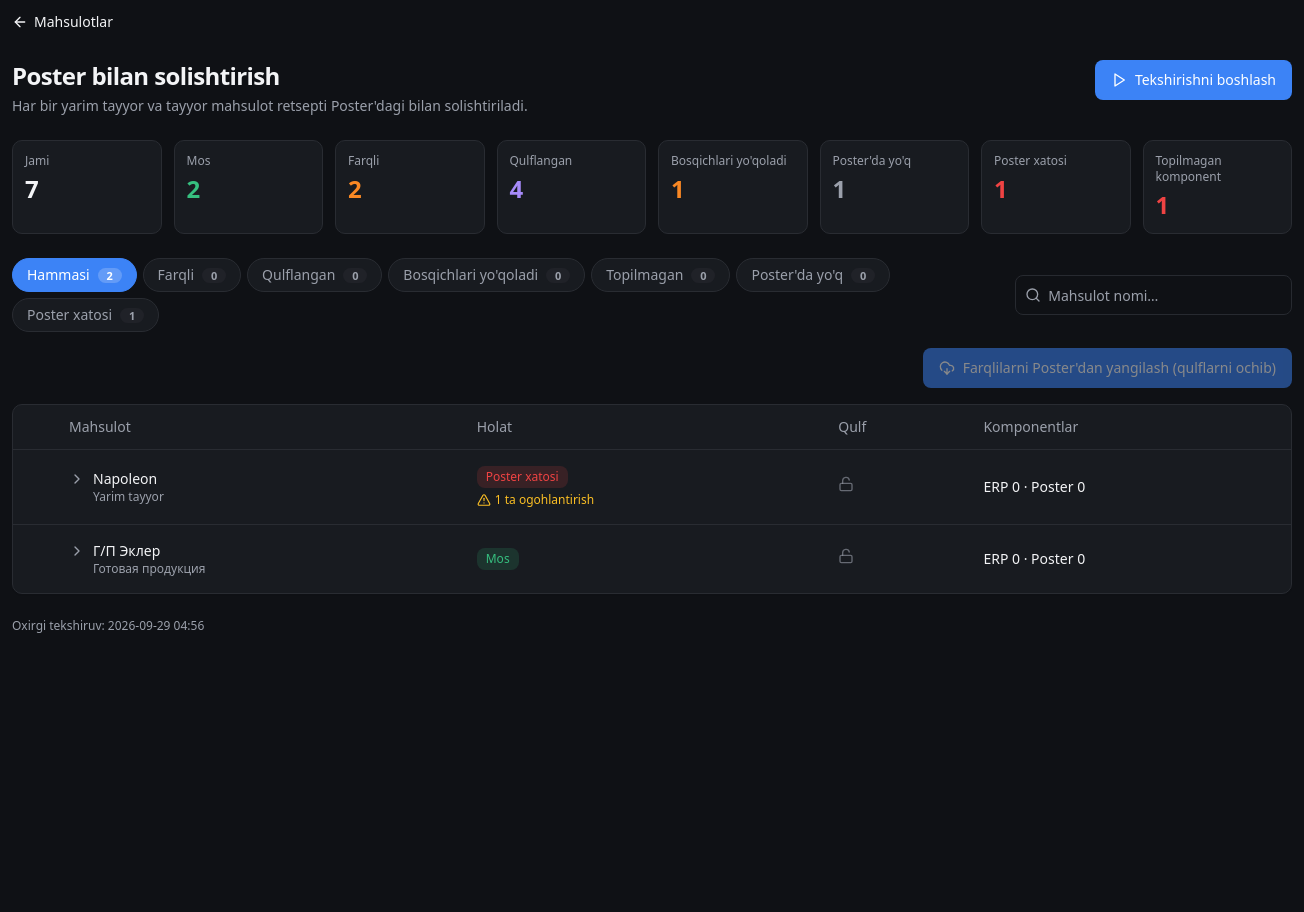
Test: RecipeAuditPage — report › labels Poster errors, Г/П (gp) products and row warnings
expect the text "Napoleon" is shown: met, box [93,468,157,488]
expect the text "Poster xatosi" below "Holat" is shown: met, box [486,468,559,484]
Click the button "Napoleon Yarim tayyor": (116, 486) [69,468,164,504]
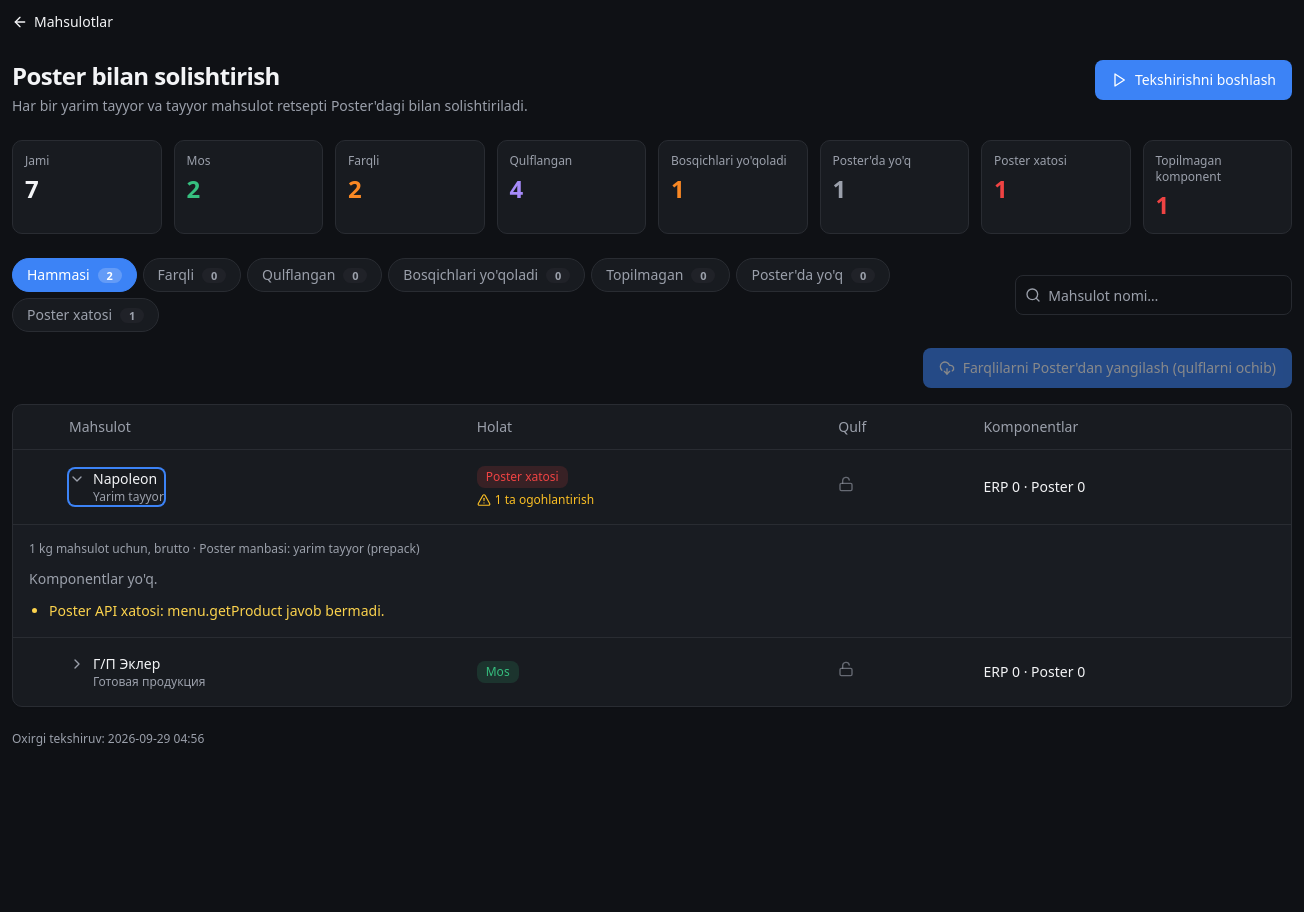
expect the list item "Poster API xatosi: menu.getProduct javob bermadi." is shown: met, box [49,600,384,620]
